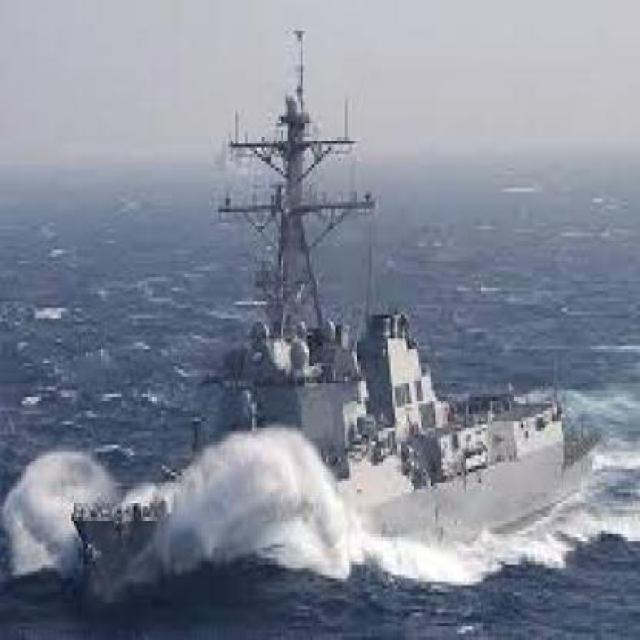warship2: (63, 45, 608, 617)
